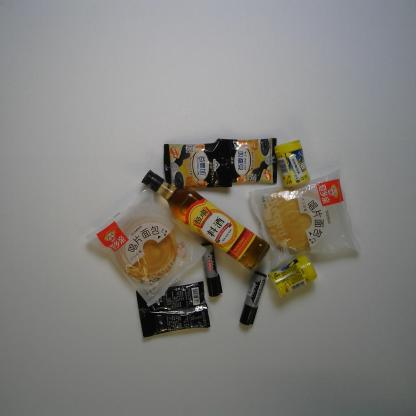Dessert: (86, 185, 210, 308), (247, 168, 363, 258)
Gum: (267, 253, 318, 298), (274, 140, 310, 188)
Instant Drink: (135, 280, 211, 338), (163, 140, 233, 188), (214, 137, 278, 185)
Seasoner: (140, 168, 270, 272)
Stationery: (239, 271, 268, 327), (200, 241, 224, 298)
